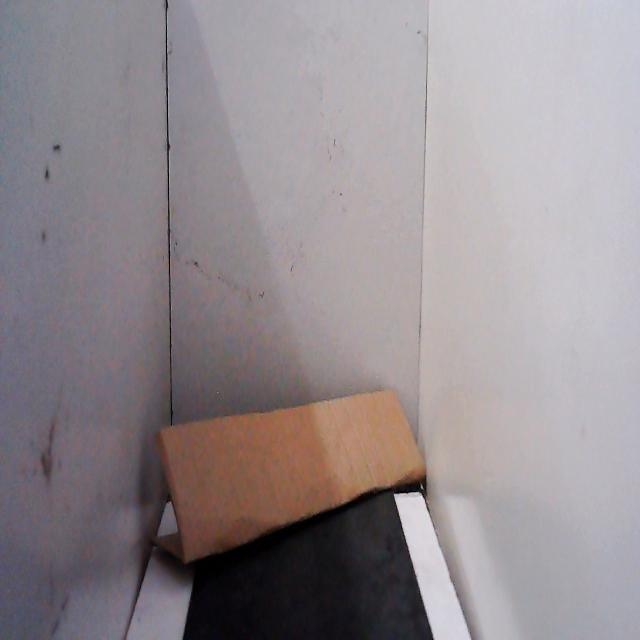papel: (146, 380, 430, 582)
